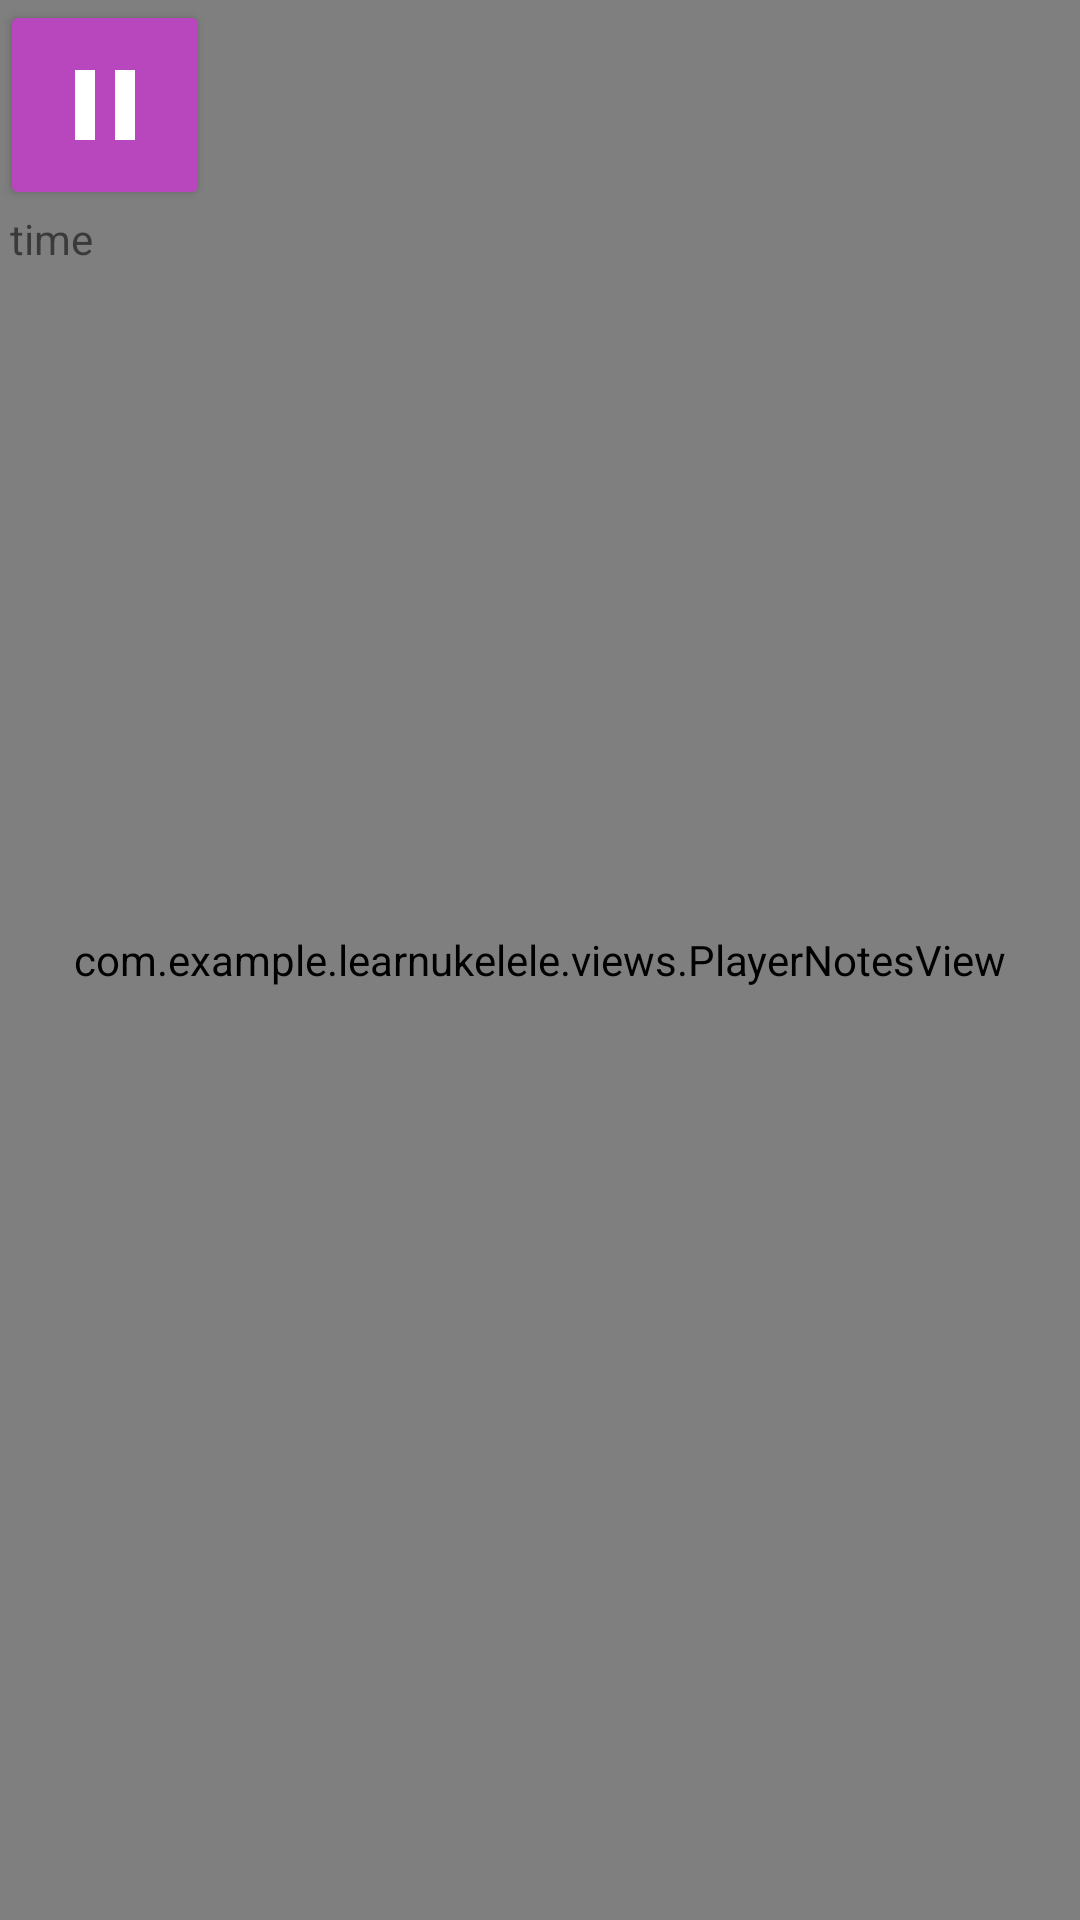

Icons on this 1080w x 1920h Android screen, each with the point to tap as [x,y]:
pause: [105,105]
